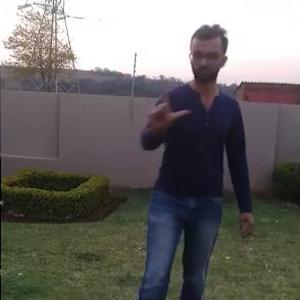land_hand: (138, 76, 187, 135)
